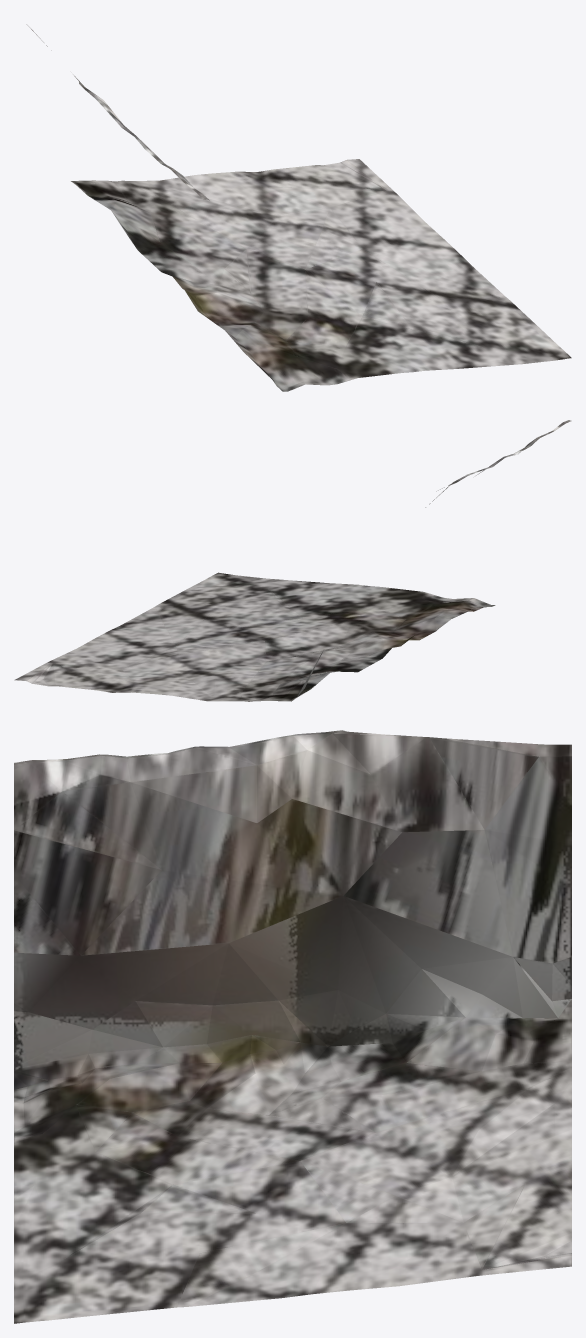
3 renders of one model, top to bottom at view 1: azimuth 30°, elevation 25°; view 2: azimuth 150°, elevation 25°; view 3: azimuth 270°, elevation 25°, orthographic. The views are drawn at different scales.
Bounding box in the file's own units: 1.67 × 1.19 × 1.67.
3 materials, 3 textured.
